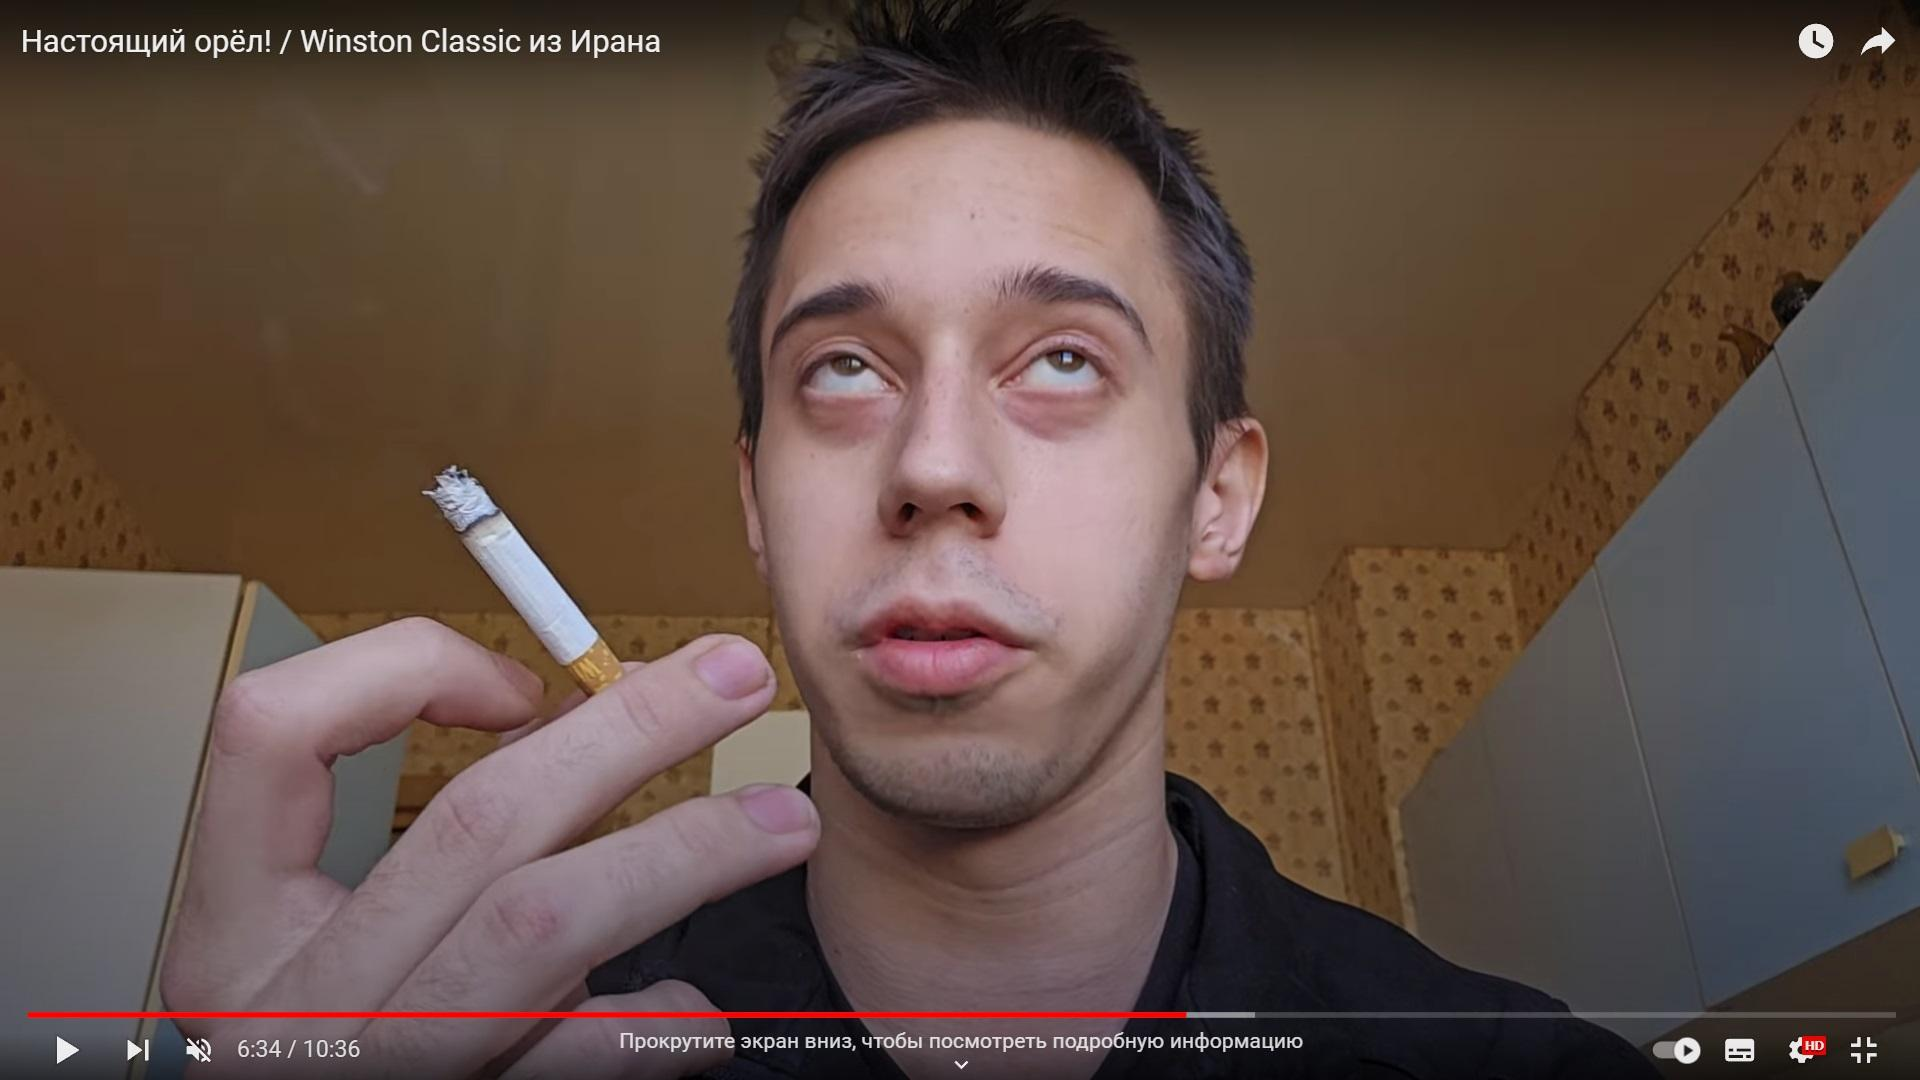cigarette: (423, 465, 622, 694)
